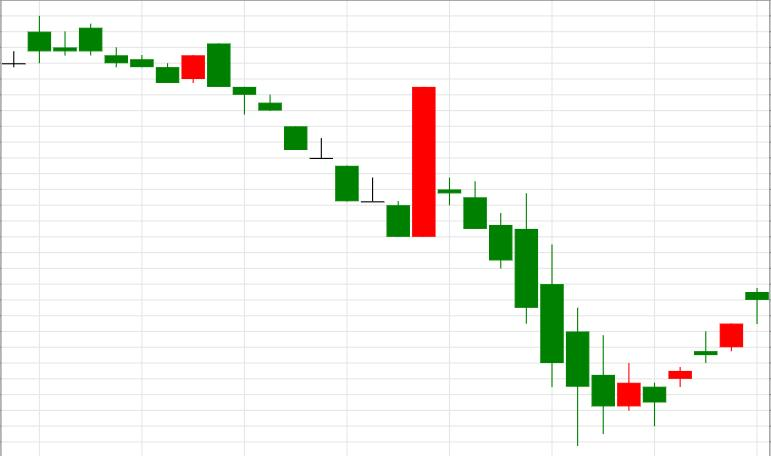bullish_engulfing_rise: (207, 43, 435, 237)
